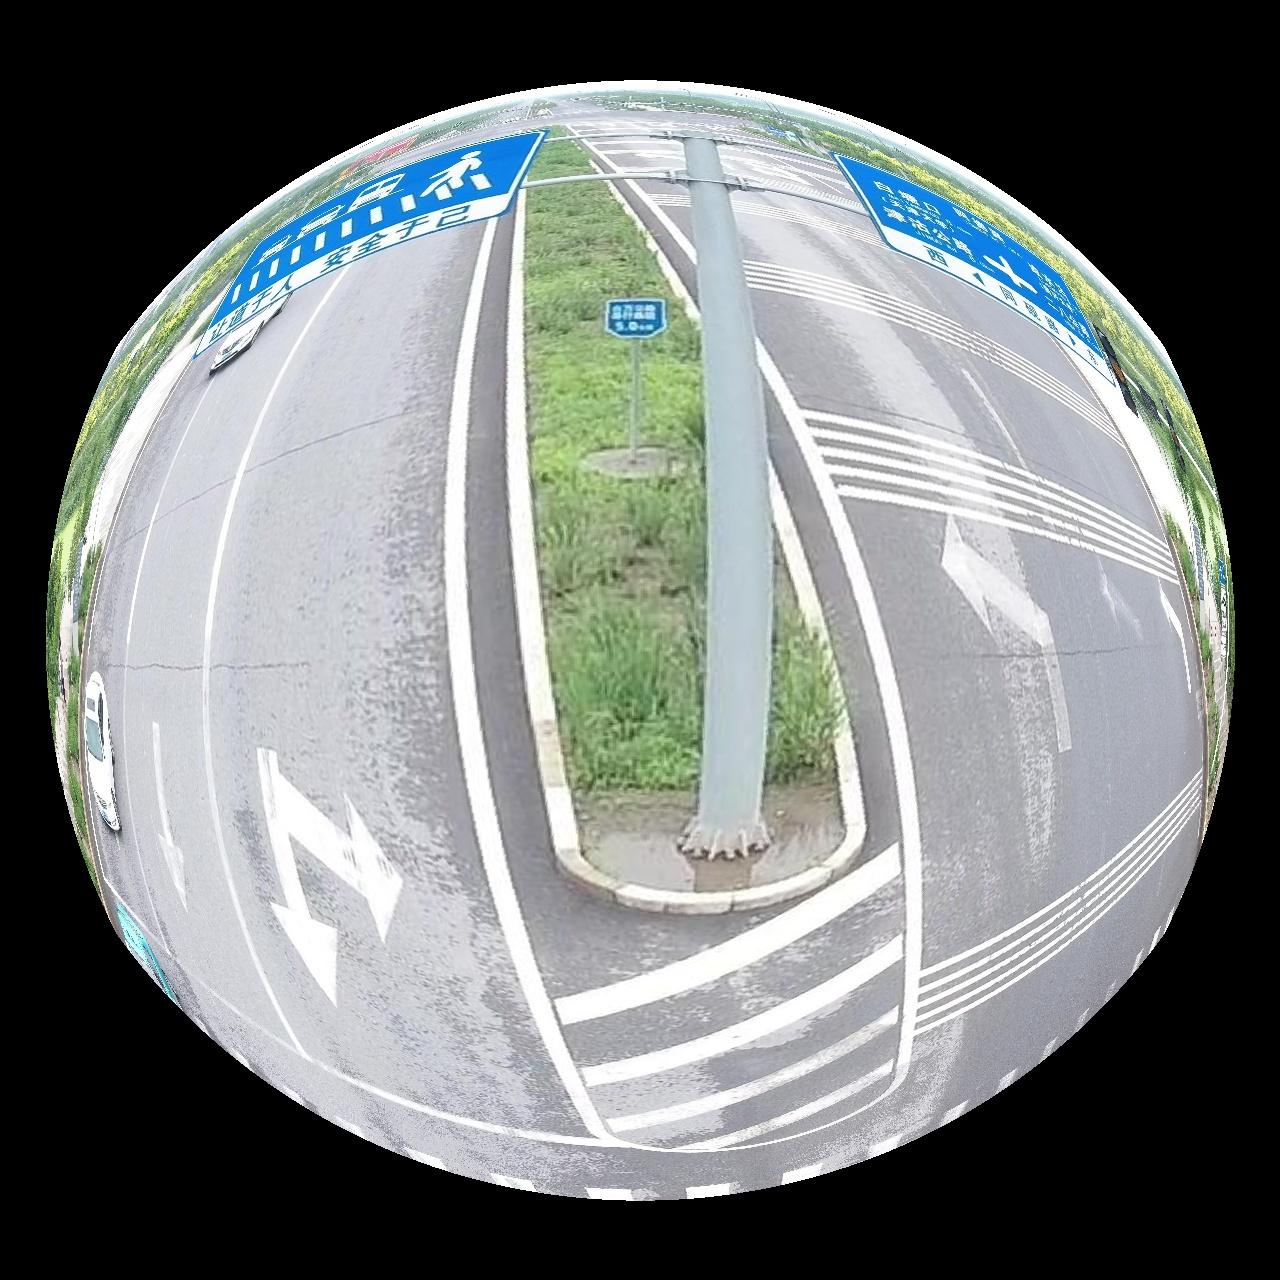cars: (209, 292, 288, 374), (115, 904, 174, 1002), (83, 672, 119, 832)
